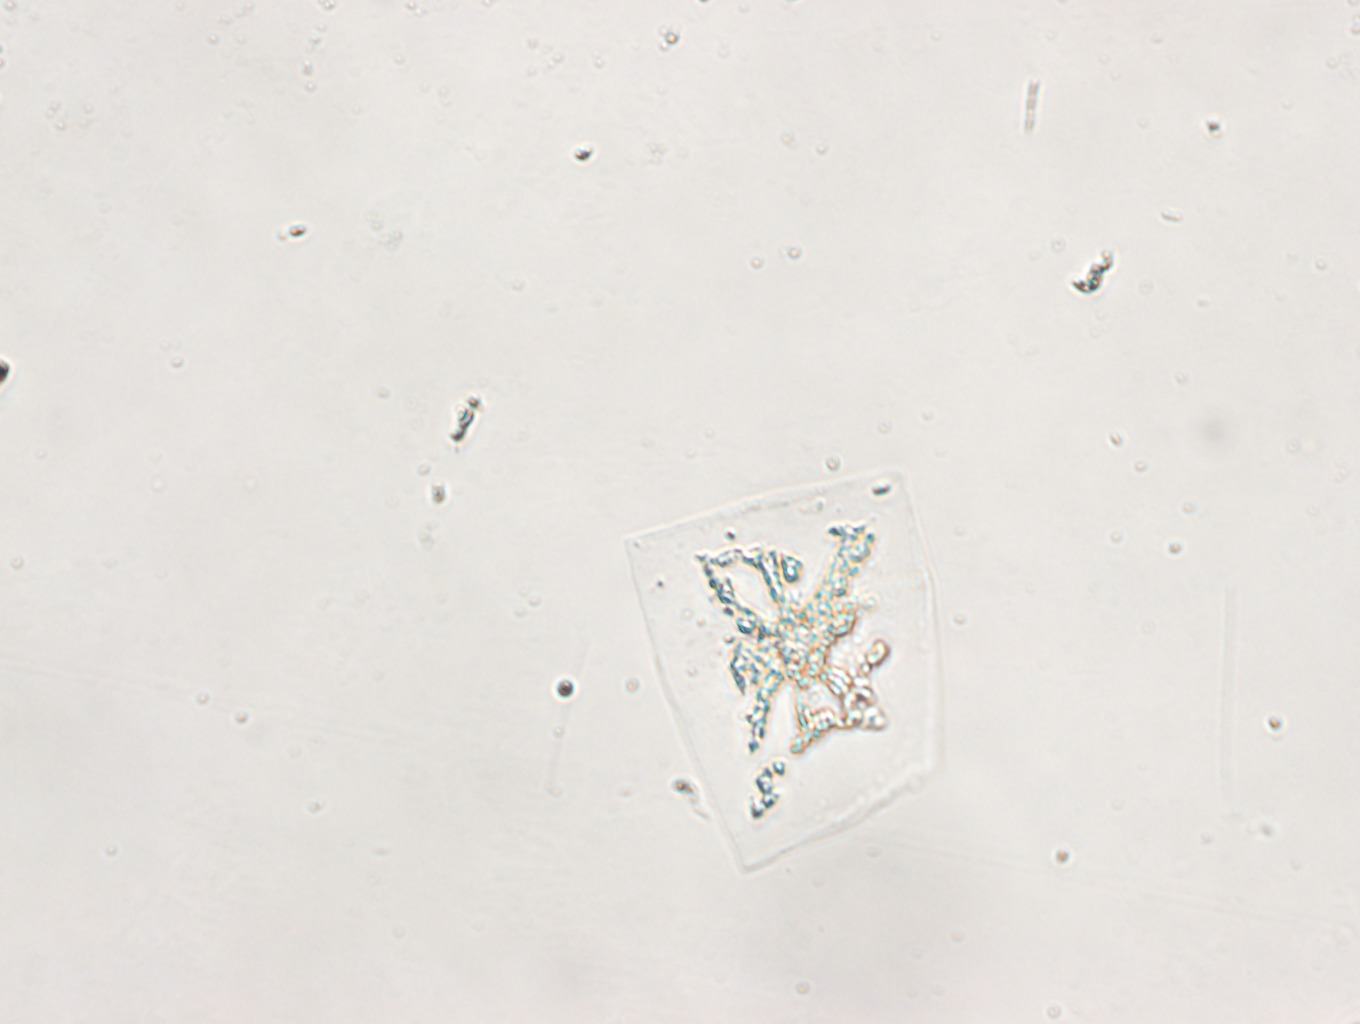helicotheca: (621, 466, 943, 877)
